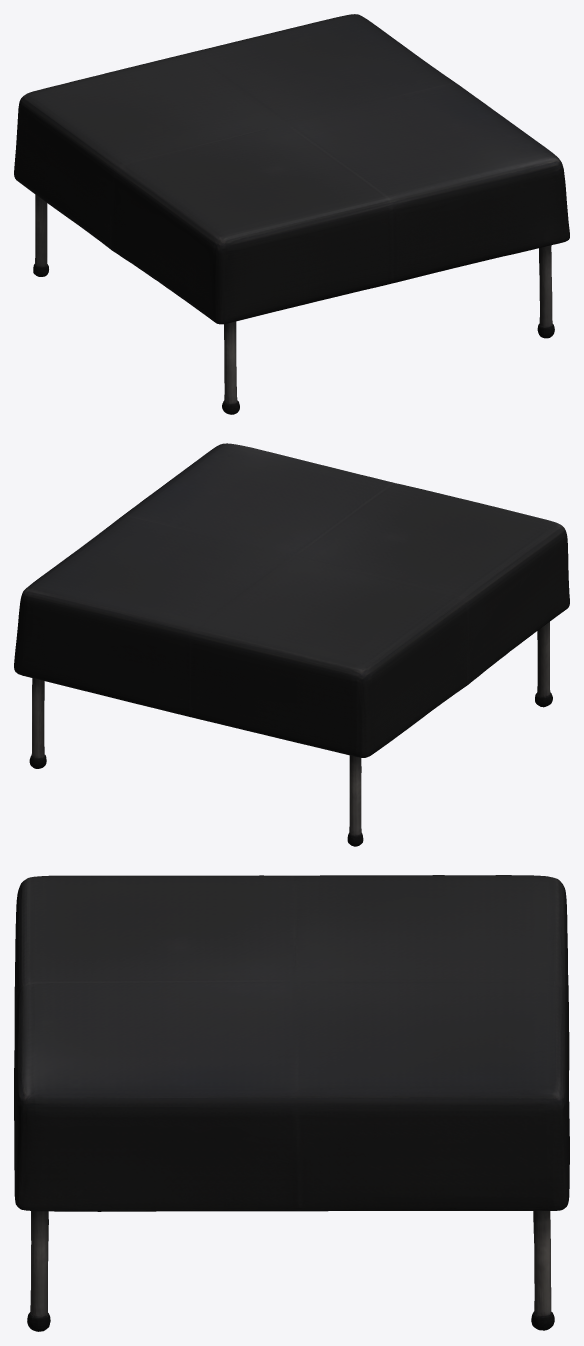
Rendered from b1Seat.glb.
3 renders of one model, top to bottom at view 1: azimuth 30°, elevation 25°; view 2: azimuth 150°, elevation 25°; view 3: azimuth 270°, elevation 25°, orthographic. The views are drawn at different scales.
Parts seen in each view (by area): view 1: world; view 2: world; view 3: world.
Part boxes in pixels (x1=…): world: x1=14, y1=14, x2=569, y2=414; world: x1=14, y1=443, x2=569, y2=846; world: x1=14, y1=875, x2=569, y2=1331.
Size of the model in its own units: 0.9747 by 0.4781 by 0.9908.
Materials: 1 (1 with a texture image).
